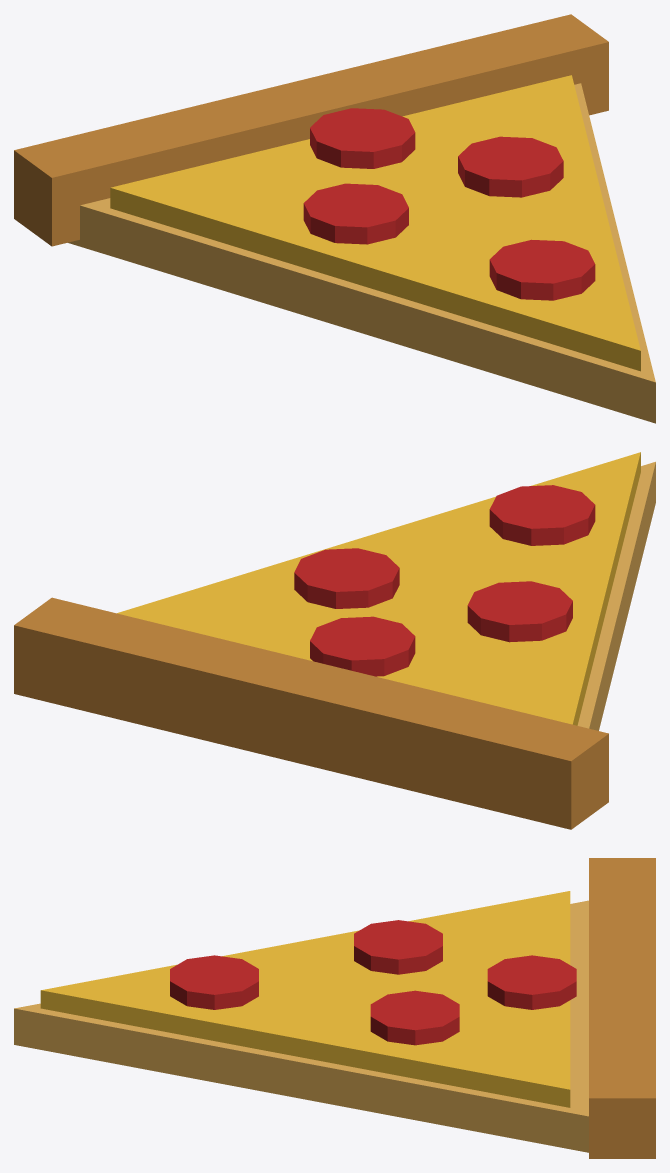
The model's file is pizza.obj.
The picture shows the model from 3 angles, top to bottom: view 1: azimuth 30°, elevation 25°; view 2: azimuth 150°, elevation 25°; view 3: azimuth 270°, elevation 25°; orthographic projection. The views are drawn at different scales.
Visible parts, largest first — view 1: pizza; view 2: pizza; view 3: pizza.
Boxes of the visible parts, box(x1,y1,x2,y2) form: pizza: box(14, 14, 655, 423); pizza: box(14, 452, 655, 829); pizza: box(14, 858, 655, 1158).
Bounding box in the file's own units: 8.85 × 1.2 × 10.
